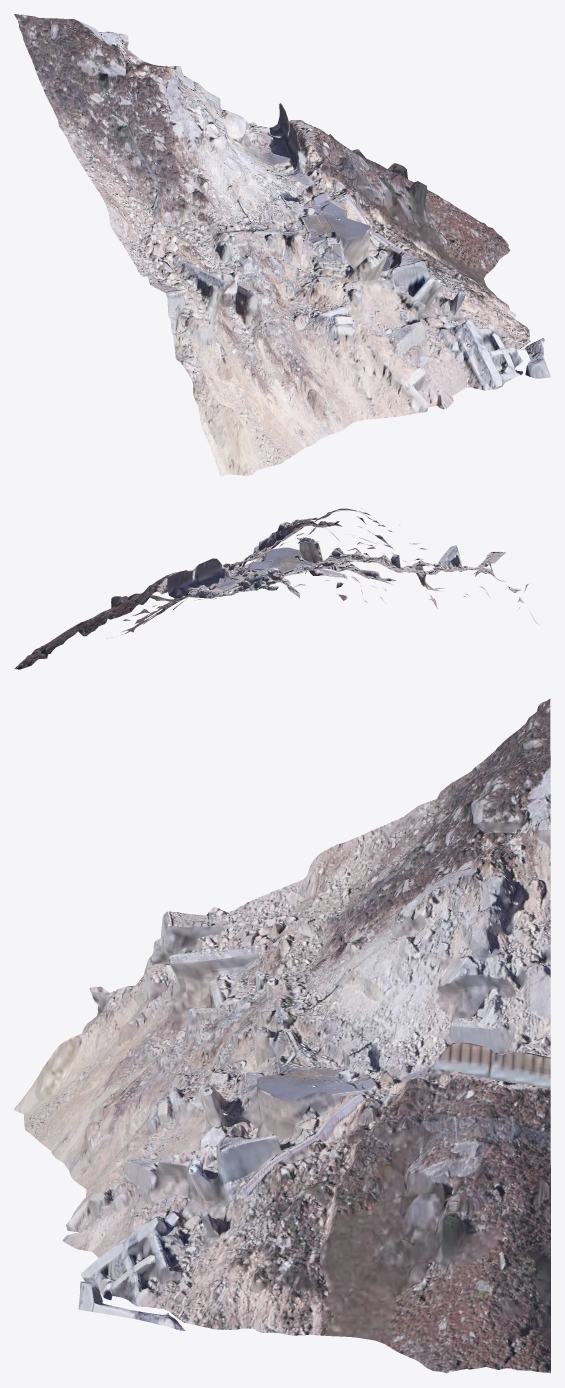
Rendered from Tile_+006_+007_L19_00040.glb.
The picture shows the model from 3 angles, top to bottom: view 1: azimuth 30°, elevation 25°; view 2: azimuth 150°, elevation 25°; view 3: azimuth 270°, elevation 25°; orthographic projection. The views are drawn at different scales.
Visible parts, largest first — view 1: rtc; view 2: rtc; view 3: rtc.
Boxes of the visible parts, left/top/right/bottom form: rtc: left=14, top=14, right=550, bottom=476; rtc: left=14, top=508, right=540, bottom=669; rtc: left=14, top=699, right=550, bottom=1373.
Bounding box in the file's own units: 95.89 × 63 × 77.65.
Materials: 1 (1 with a texture image).
